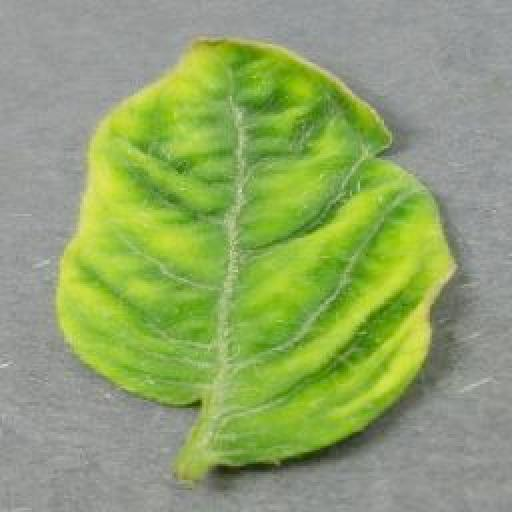disease_tomato: (58, 34, 458, 468)
